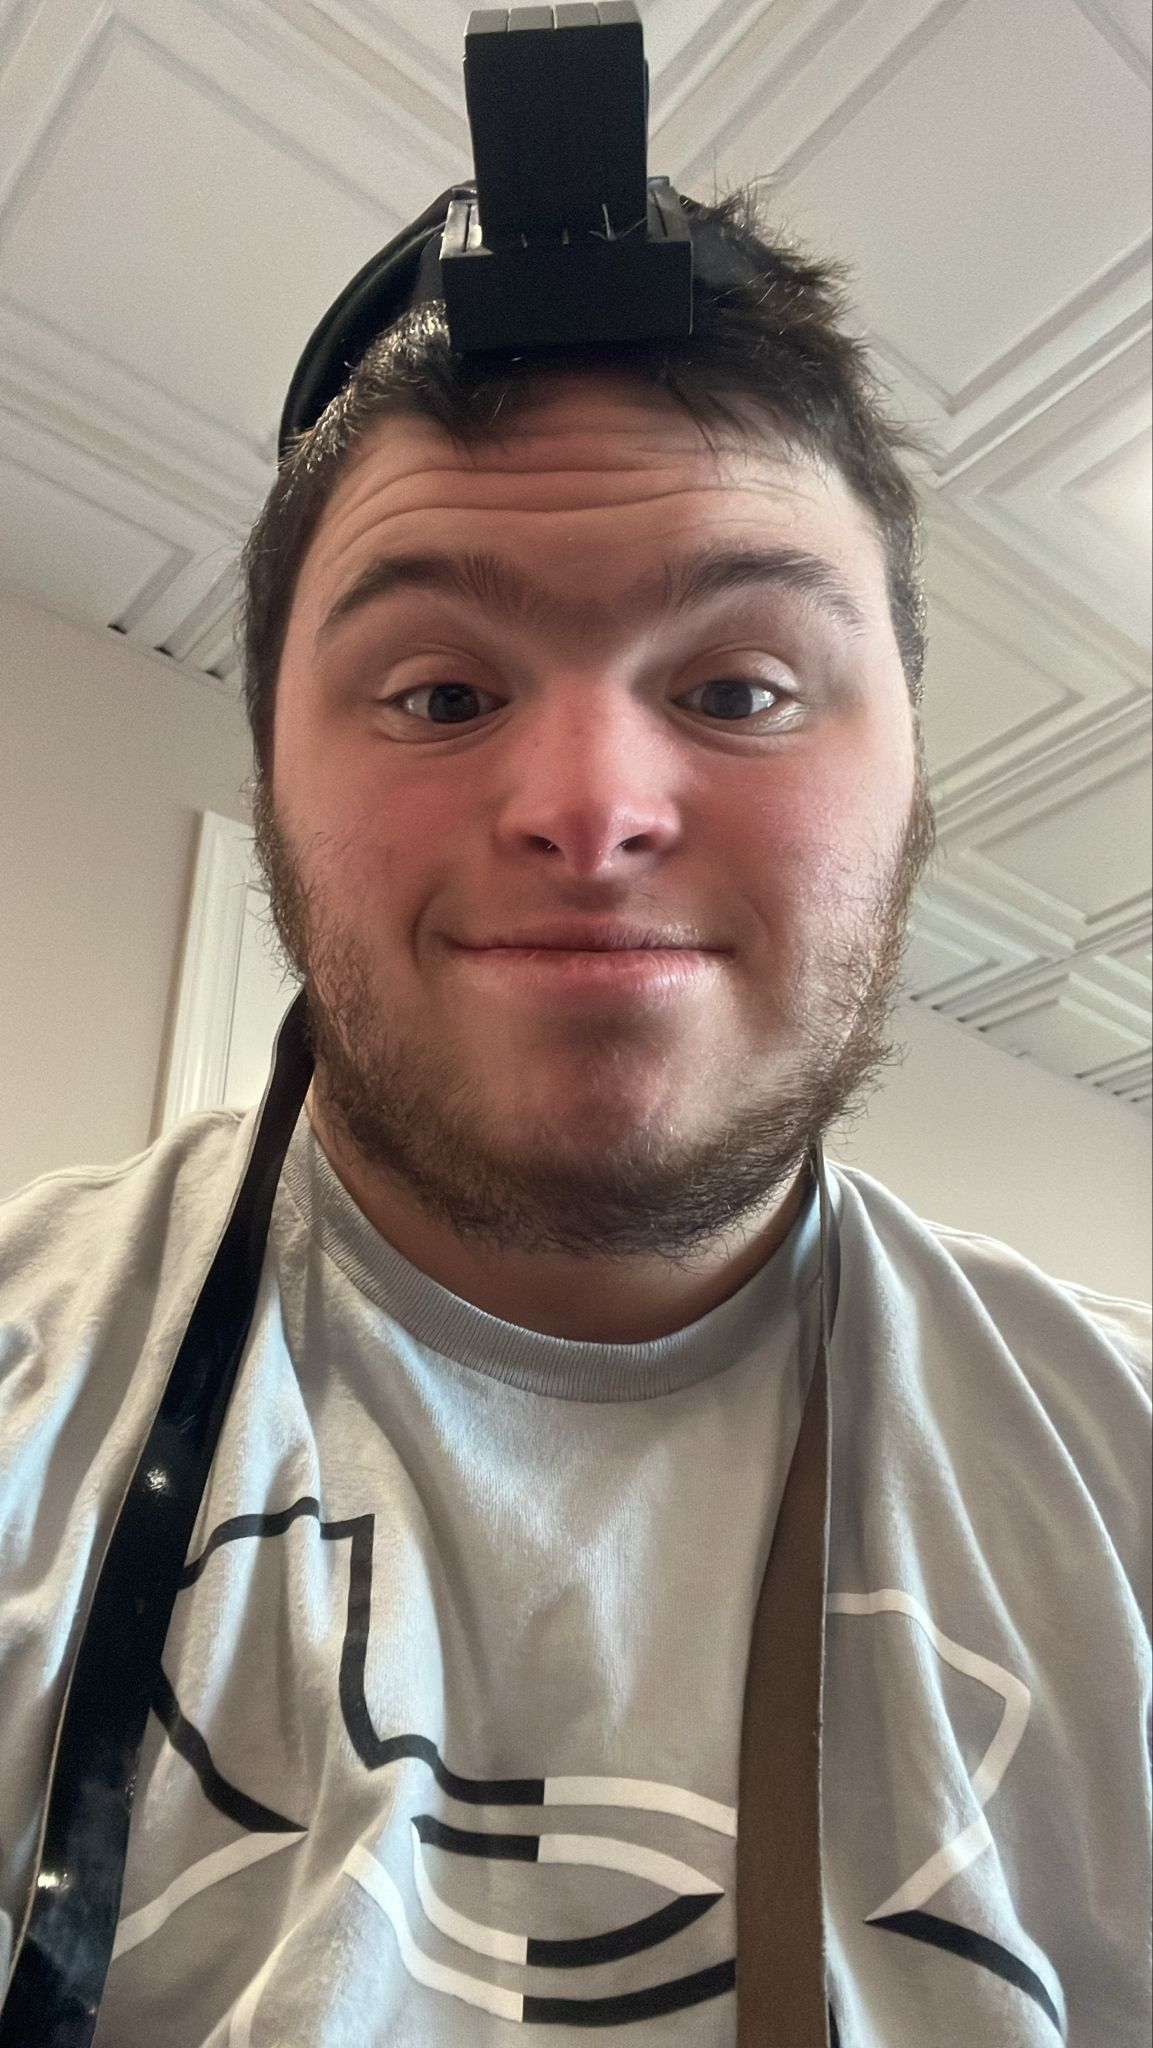tefillin: (439, 14, 693, 342)
